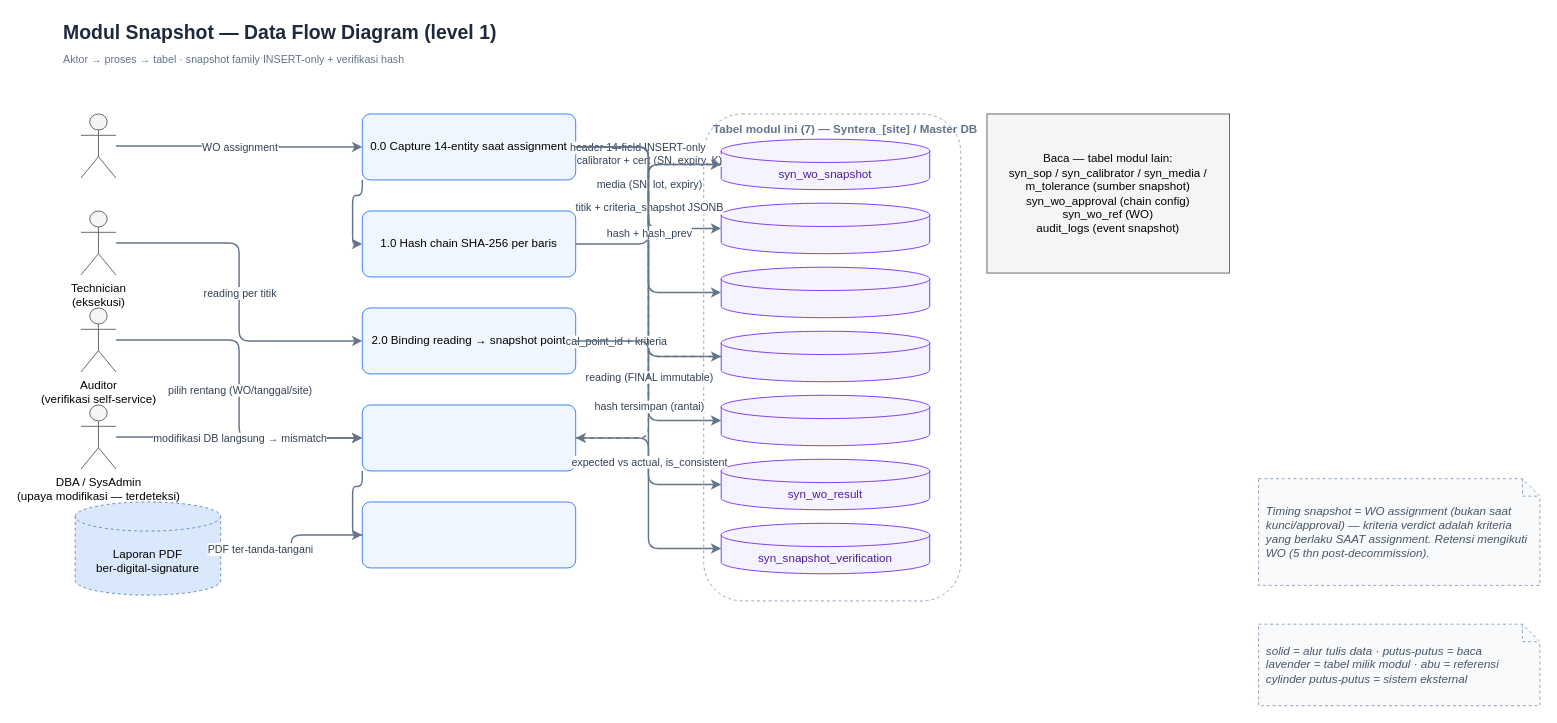
Some shapes in this 1557 by 723 pixel diagram are drawn without their labels. Each missing label, with the centre of its shape:
"3.0 Verifikasi integritas rantai" belongs at (x=468, y=437).
"4.0 Laporan verifikasi PDF" belongs at (x=468, y=534).
"Planner / sistem WO (trigger assignment)" belongs at (x=98, y=145).
"syn_wo_cal_point" belongs at (x=825, y=356).
"syn_wo_calibrator" belongs at (x=825, y=228).
"syn_wo_env" belongs at (x=825, y=420).
"syn_wo_media" belongs at (x=825, y=292).
